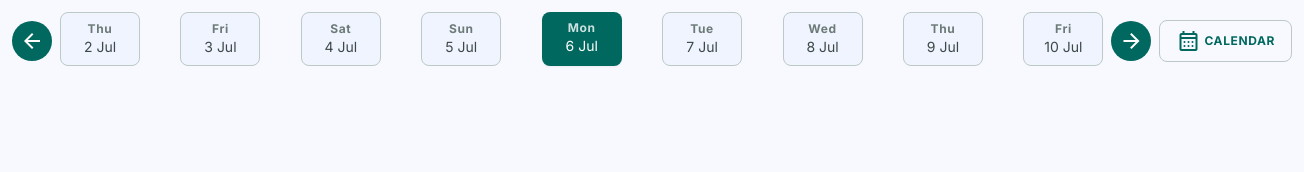
Test: DateStrip › paging forward reveals later days
Expected: the button "Mon 13 Jul" is not shown
Step 1. Click the button named "Next days" → (1132, 41), box [1112,21,1152,61]
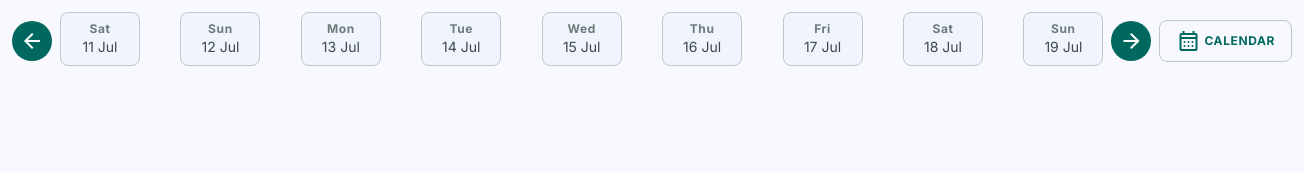
Now the button "Mon 13 Jul" is shown, box [301,12,381,66]
